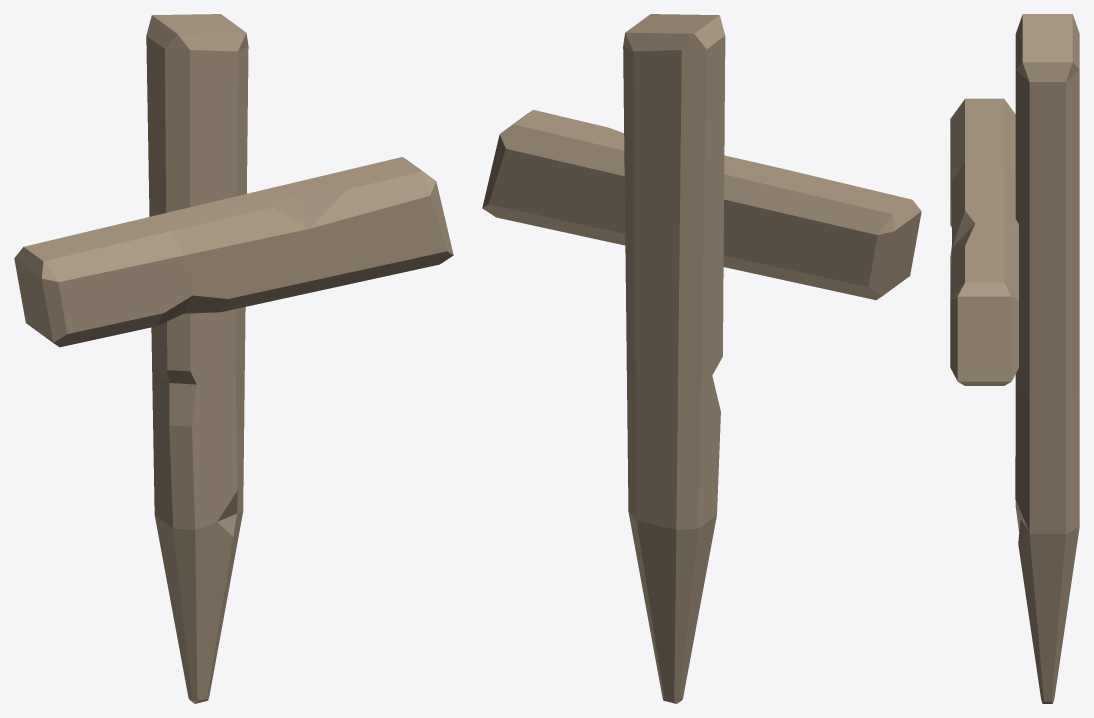
Rendered from WF_LP_HT_Props_Cross.001.fbx.
3 renders of one model, left to right at view 1: azimuth 30°, elevation 25°; view 2: azimuth 150°, elevation 25°; view 3: azimuth 270°, elevation 25°, orthographic. The views are drawn at different scales.
Parts seen in each view (by area): view 1: WF_LP_HT_Props_Cross.001; view 2: WF_LP_HT_Props_Cross.001; view 3: WF_LP_HT_Props_Cross.001.
Boxes of the visible parts, x1,y1,x2,y2 form: WF_LP_HT_Props_Cross.001: (14,14,453,703); WF_LP_HT_Props_Cross.001: (482,14,921,703); WF_LP_HT_Props_Cross.001: (950,14,1079,703).
Size of the model in its own units: 0.2064 by 0.3277 by 0.0573.
